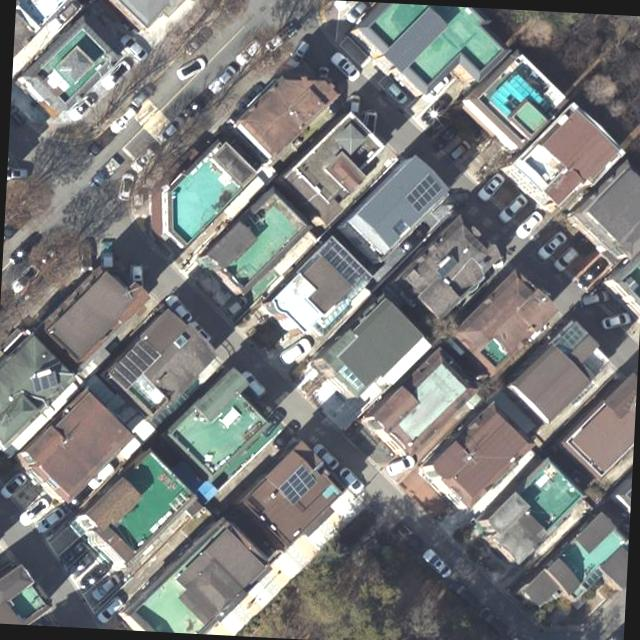solar: (276, 463, 318, 507), (404, 172, 444, 215)
